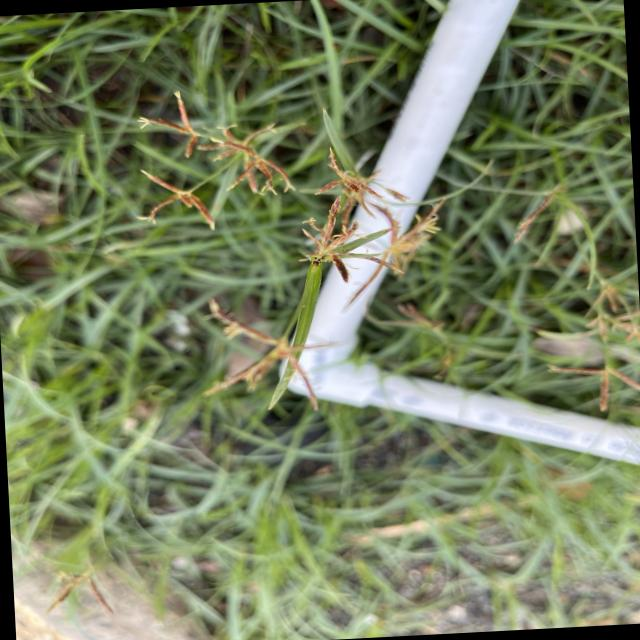cyperus: (118, 79, 449, 308), (530, 246, 640, 415), (192, 300, 339, 424), (35, 556, 120, 625)
